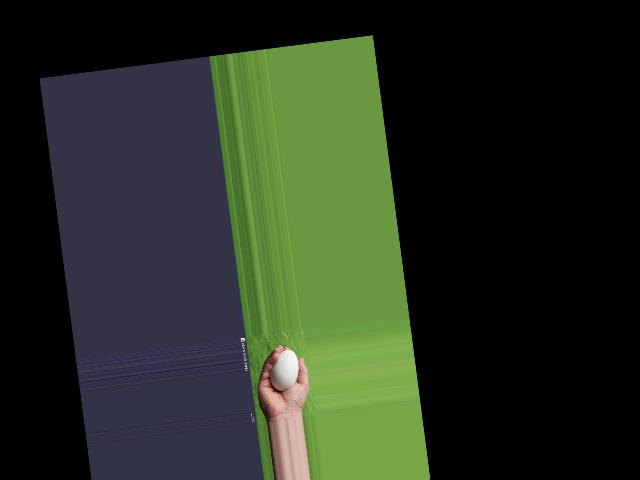egg: (266, 349, 301, 393)
